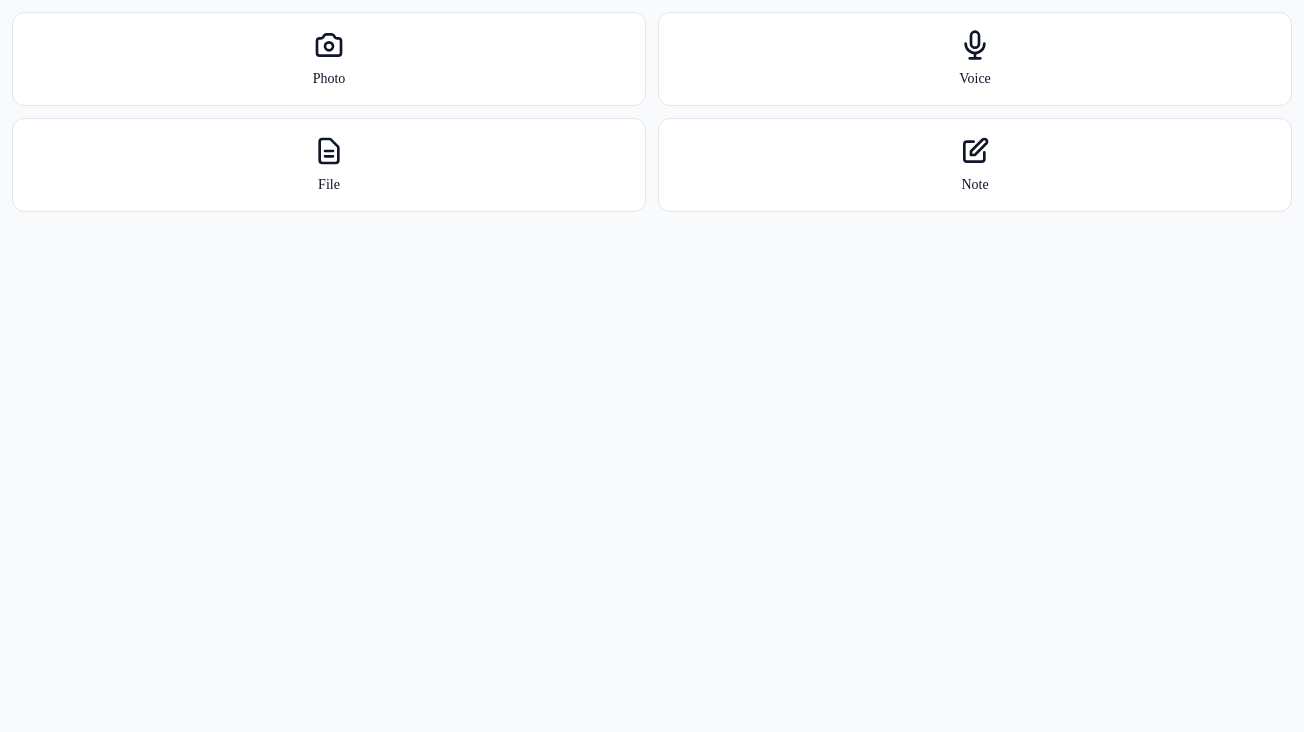
EvidenceUpload › mocked interaction › shows coming soon toast when voice clicked
Click the button with test id "upload-voice".
click(975, 59)  # box [658,12,1292,106]
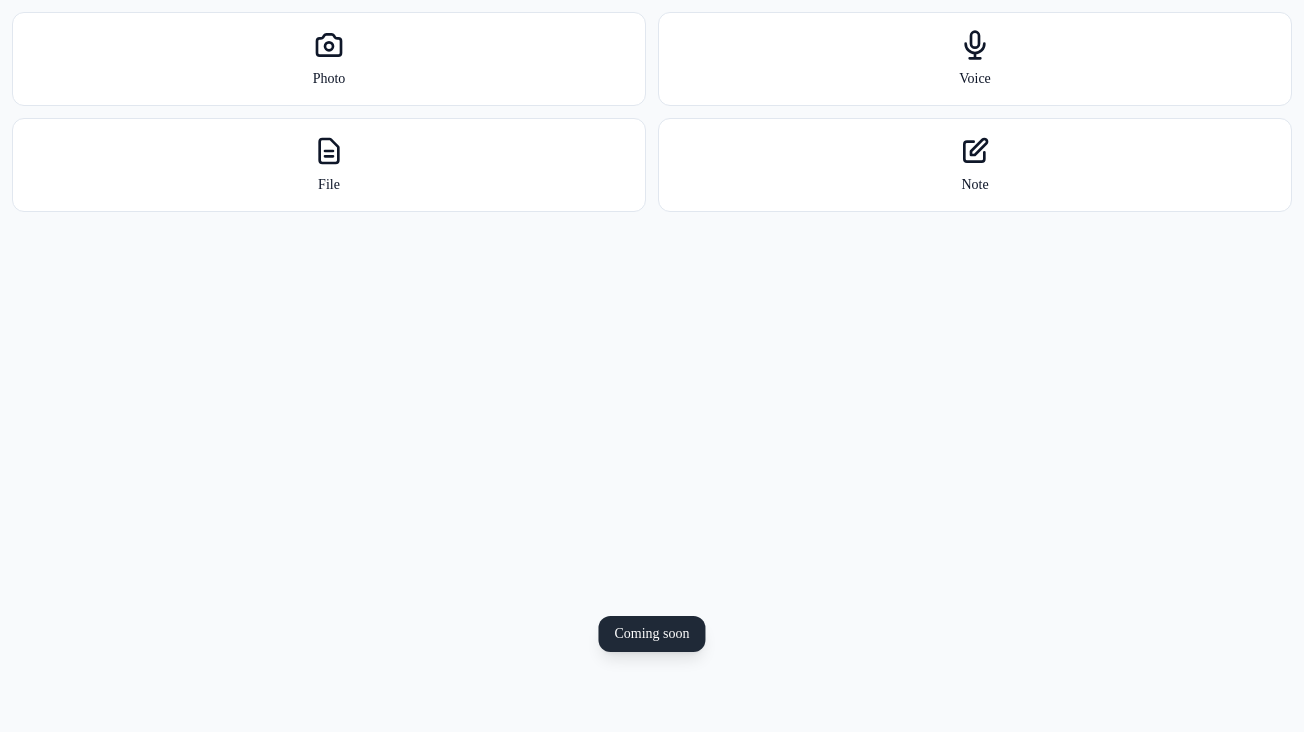
Expected: the text "Coming soon" is shown, [598,616,706,652]
